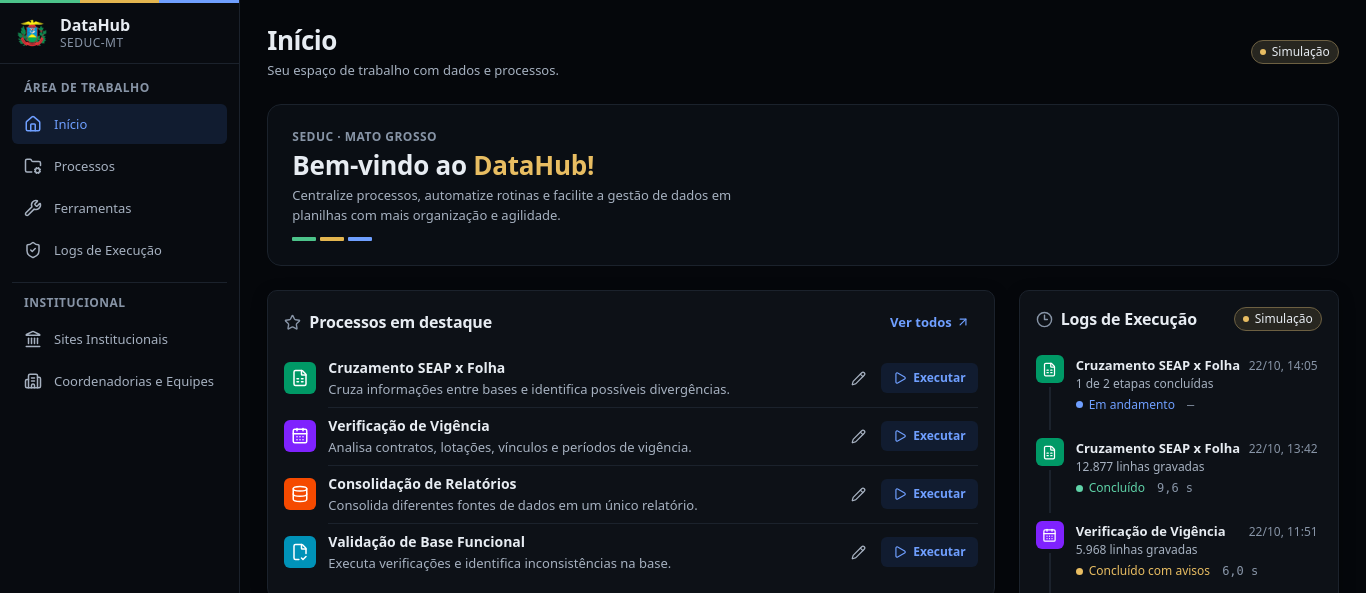
Test case: cards de processo em Início › o botão Executar abre, tenta executar e aponta a entrada que falta
What coordinates should you click on to do the following:
click the button with aria-label "Executar Cruzamento SEAP x Folha"
I would click on:
 (929, 378)
Its box is [881, 363, 978, 393].
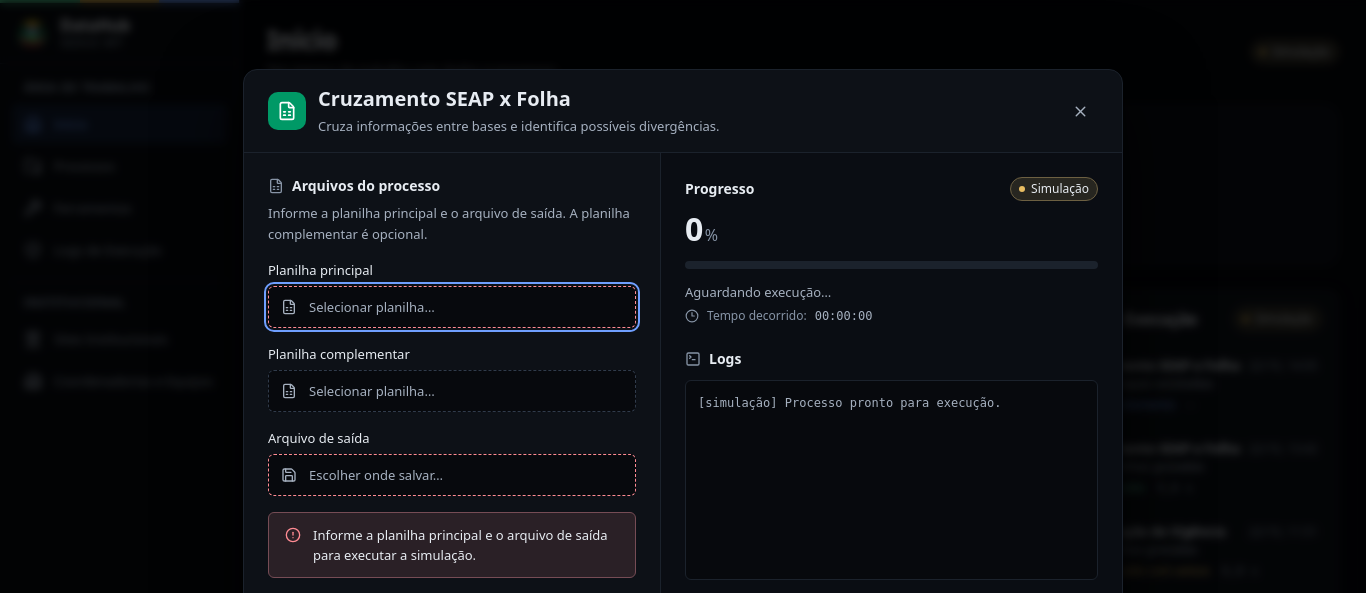
Check: the message "Informe a planilha principal e o arquivo de saída para executar a simulação." is shown, box [268, 512, 636, 578]
